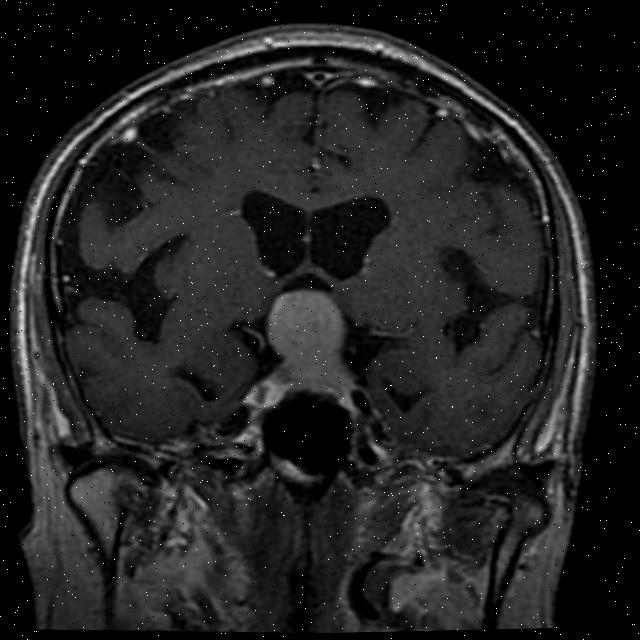Pituitary: (262, 283, 351, 402)
